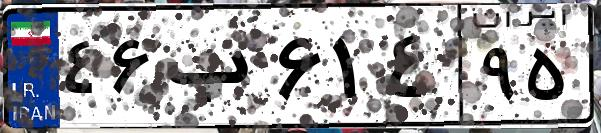1: (330, 28, 385, 110)
4: (385, 28, 445, 110), (57, 26, 110, 100)
5: (525, 38, 570, 115)
6: (270, 28, 330, 110), (110, 28, 158, 98)
9: (475, 38, 525, 113)
ب: (158, 20, 270, 120)
